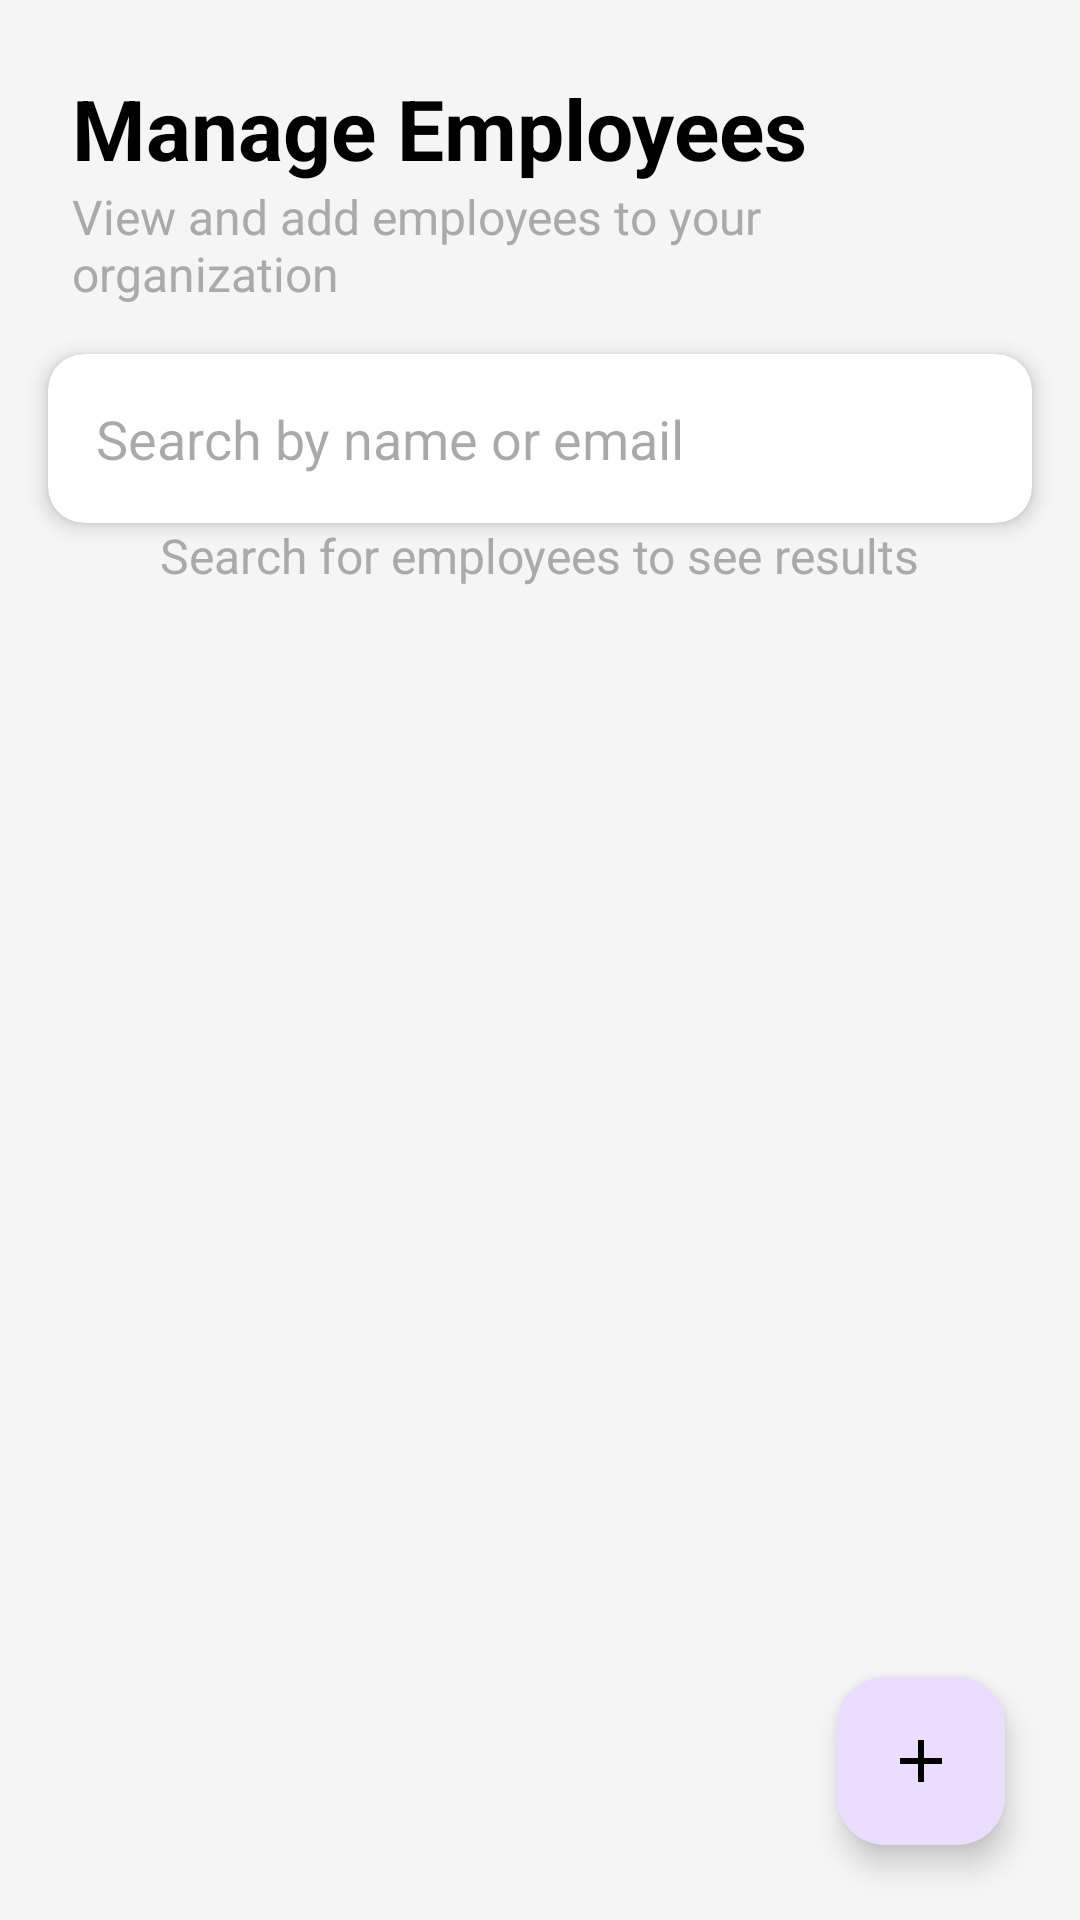

Screen size 1080 x 1920. Icon name, then its center in pixels as point (x, y):
Add New Employee: point (921, 1761)
